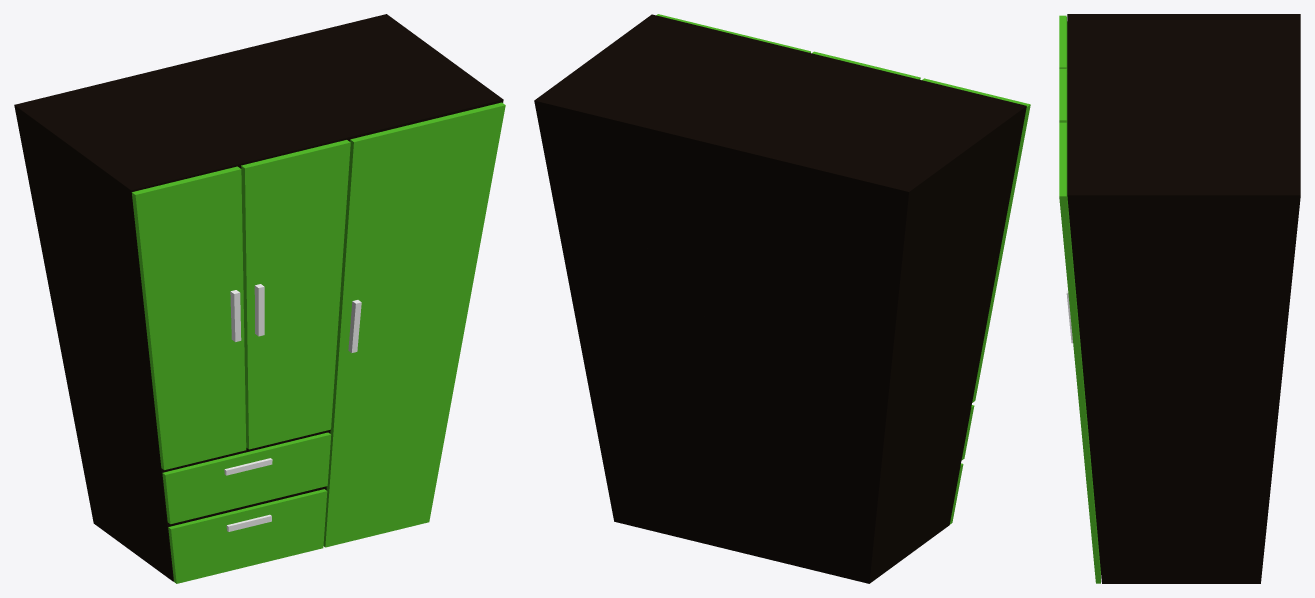
The model's file is House_MasterBedRoom_Wardrobe.FBX.
3 renders of one model, left to right at view 1: azimuth 30°, elevation 25°; view 2: azimuth 150°, elevation 25°; view 3: azimuth 270°, elevation 25°, orthographic.
Visible parts, largest first — view 1: House_MasterBedRoom_Wardrobe_doorLarge, House_MasterBedRoom_Wardrobe_Body_Chunk2, House_MasterBedRoom_Wardrobe_doorSmallRight, House_MasterBedRoom_Wardrobe_doorSmallLeft, House_MasterBedRoom_Wardrobe_Body_Chunk1, House_MasterBedRoom_Wardrobe_Body_Chunk4, House_MasterBedRoom_Wardrobe_Drawer_bottom, House_MasterBedRoom_Wardrobe_Drawer_top, vHouse_MasterBedRoom_Wardrobe_Body_Chunk6, House_MasterBedRoom_Wardrobe_Body_Chunk8; view 2: House_MasterBedRoom_Wardrobe_Body_Chunk2, House_MasterBedRoom_Wardrobe_Body_Chunk1, House_MasterBedRoom_Wardrobe_Body_Chunk4, House_MasterBedRoom_Wardrobe_Body_Chunk3, vHouse_MasterBedRoom_Wardrobe_Body_Chunk6, House_MasterBedRoom_Wardrobe_Body_Chunk8, House_MasterBedRoom_Wardrobe_Body_Chunk5, House_MasterBedRoom_Wardrobe_Body_Chunk7, House_MasterBedRoom_Wardrobe_doorSmallLeft; view 3: House_MasterBedRoom_Wardrobe_Body_Chunk3, House_MasterBedRoom_Wardrobe_Body_Chunk1, House_MasterBedRoom_Wardrobe_Body_Chunk2, House_MasterBedRoom_Wardrobe_Body_Chunk5, House_MasterBedRoom_Wardrobe_Body_Chunk7, House_MasterBedRoom_Wardrobe_doorLarge, House_MasterBedRoom_Wardrobe_doorSmallLeft, House_MasterBedRoom_Wardrobe_doorSmallRight.
Boxes of the visible parts, x1,y1,x2,y2 form: House_MasterBedRoom_Wardrobe_doorLarge: [323, 102, 505, 547]; House_MasterBedRoom_Wardrobe_Body_Chunk2: [14, 52, 347, 363]; House_MasterBedRoom_Wardrobe_doorSmallRight: [241, 140, 350, 449]; House_MasterBedRoom_Wardrobe_doorSmallLeft: [131, 166, 246, 469]; House_MasterBedRoom_Wardrobe_Body_Chunk1: [231, 14, 503, 141]; House_MasterBedRoom_Wardrobe_Body_Chunk4: [49, 290, 247, 469]; House_MasterBedRoom_Wardrobe_Drawer_bottom: [168, 489, 327, 583]; House_MasterBedRoom_Wardrobe_Drawer_top: [162, 432, 331, 524]; vHouse_MasterBedRoom_Wardrobe_Body_Chunk6: [71, 404, 328, 525]; House_MasterBedRoom_Wardrobe_Body_Chunk8: [82, 463, 324, 581]; House_MasterBedRoom_Wardrobe_Body_Chunk2: [691, 53, 1026, 365]; House_MasterBedRoom_Wardrobe_Body_Chunk1: [534, 14, 808, 285]; House_MasterBedRoom_Wardrobe_Body_Chunk4: [702, 285, 992, 471]; House_MasterBedRoom_Wardrobe_Body_Chunk3: [550, 184, 712, 429]; vHouse_MasterBedRoom_Wardrobe_Body_Chunk6: [712, 405, 971, 527]; House_MasterBedRoom_Wardrobe_Body_Chunk8: [716, 465, 960, 583]; House_MasterBedRoom_Wardrobe_Body_Chunk5: [586, 377, 716, 488]; House_MasterBedRoom_Wardrobe_Body_Chunk7: [606, 478, 720, 547]; House_MasterBedRoom_Wardrobe_doorSmallLeft: [922, 78, 1030, 402]; House_MasterBedRoom_Wardrobe_Body_Chunk3: [1074, 272, 1292, 450]; House_MasterBedRoom_Wardrobe_Body_Chunk1: [1067, 119, 1300, 271]; House_MasterBedRoom_Wardrobe_Body_Chunk2: [1067, 14, 1300, 119]; House_MasterBedRoom_Wardrobe_Body_Chunk5: [1090, 450, 1274, 544]; House_MasterBedRoom_Wardrobe_Body_Chunk7: [1098, 544, 1264, 583]; House_MasterBedRoom_Wardrobe_doorLarge: [1059, 122, 1100, 583]; House_MasterBedRoom_Wardrobe_doorSmallLeft: [1059, 15, 1067, 73]; House_MasterBedRoom_Wardrobe_doorSmallRight: [1059, 69, 1067, 126].
Bounding box in the file's own units: 329 × 353 × 185.
